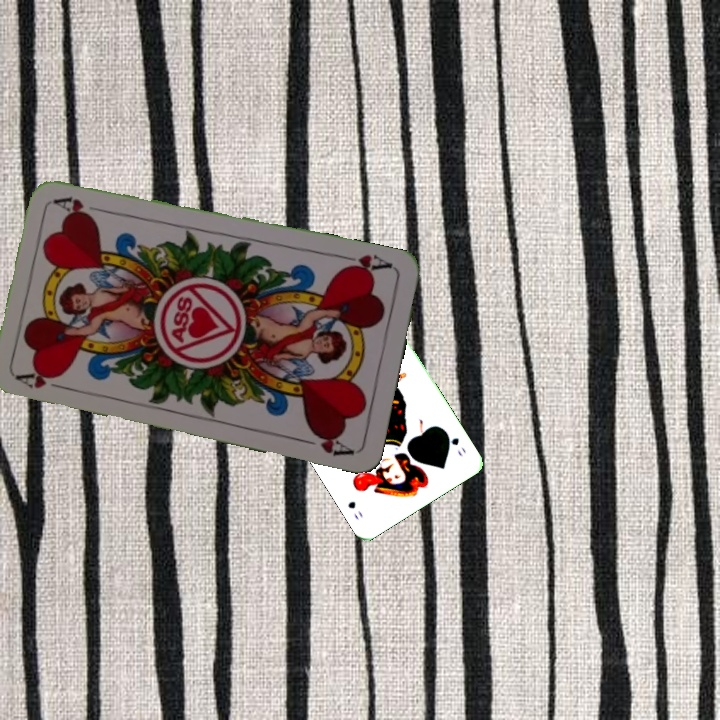GO: (441, 427, 469, 460)
HA: (337, 250, 395, 278), (14, 367, 73, 393)
